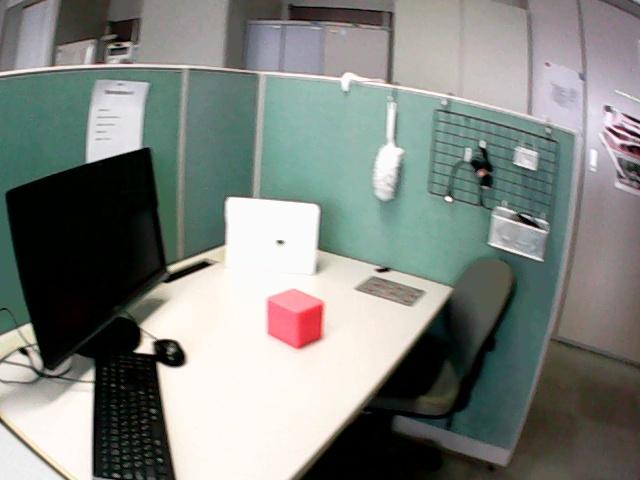red_block: (267, 289, 322, 347)
